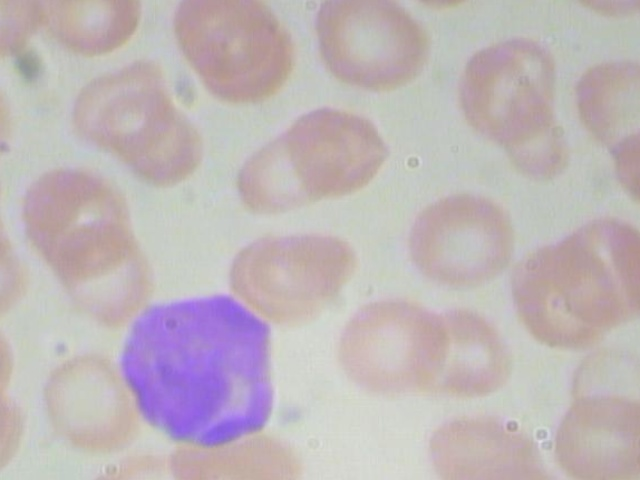RBC: (16, 165, 138, 281), (506, 239, 627, 354), (393, 188, 525, 292), (307, 0, 438, 100), (36, 218, 157, 325), (27, 346, 143, 455), (335, 291, 450, 399), (230, 120, 355, 219), (279, 99, 392, 201), (453, 33, 566, 135), (64, 53, 177, 154), (412, 304, 517, 398), (167, 0, 281, 84), (247, 226, 362, 302), (30, 0, 144, 60), (0, 226, 31, 335), (0, 0, 46, 60), (0, 61, 22, 184)
WBC: (113, 292, 290, 454)
